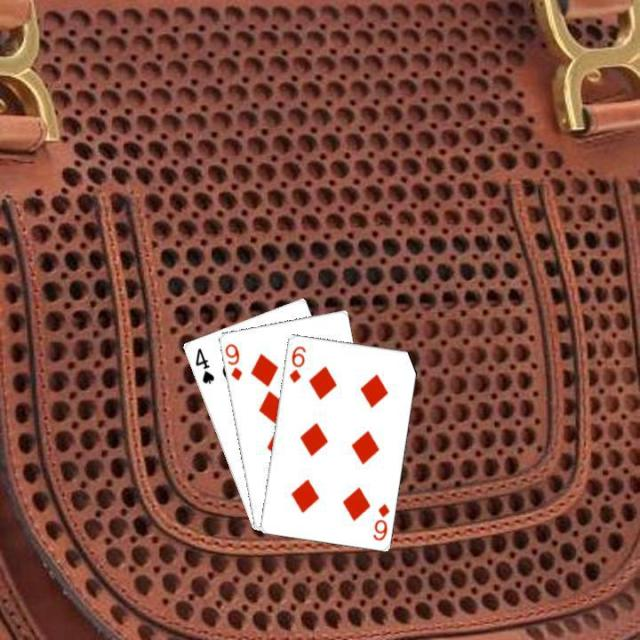4S: (191, 344, 216, 386)
6D: (286, 341, 308, 384), (369, 500, 391, 542)
9D: (222, 340, 244, 382)
